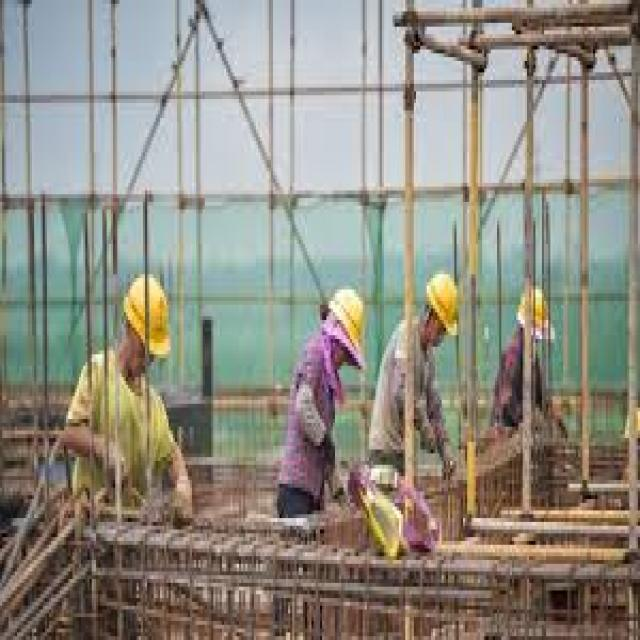Safety-Helmet: (113, 259, 181, 373), (314, 274, 373, 354), (418, 259, 467, 347), (508, 270, 557, 346)
